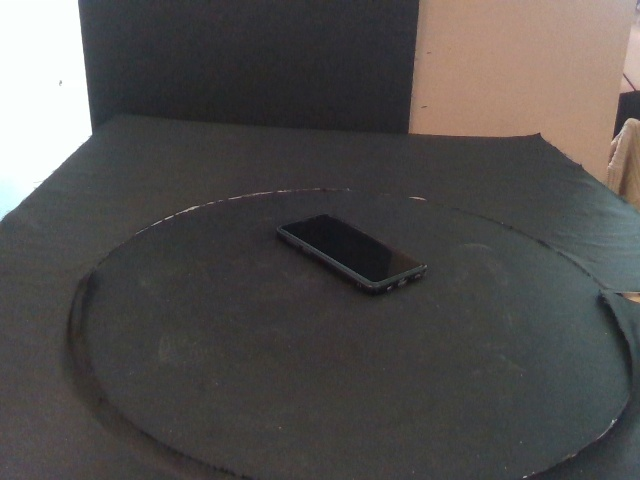phone: (275, 211, 429, 297)
